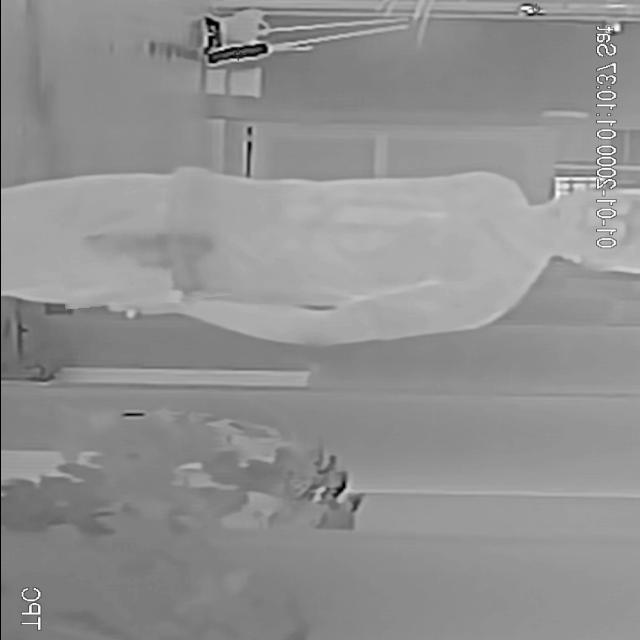Weapon: (59, 212, 230, 306)
